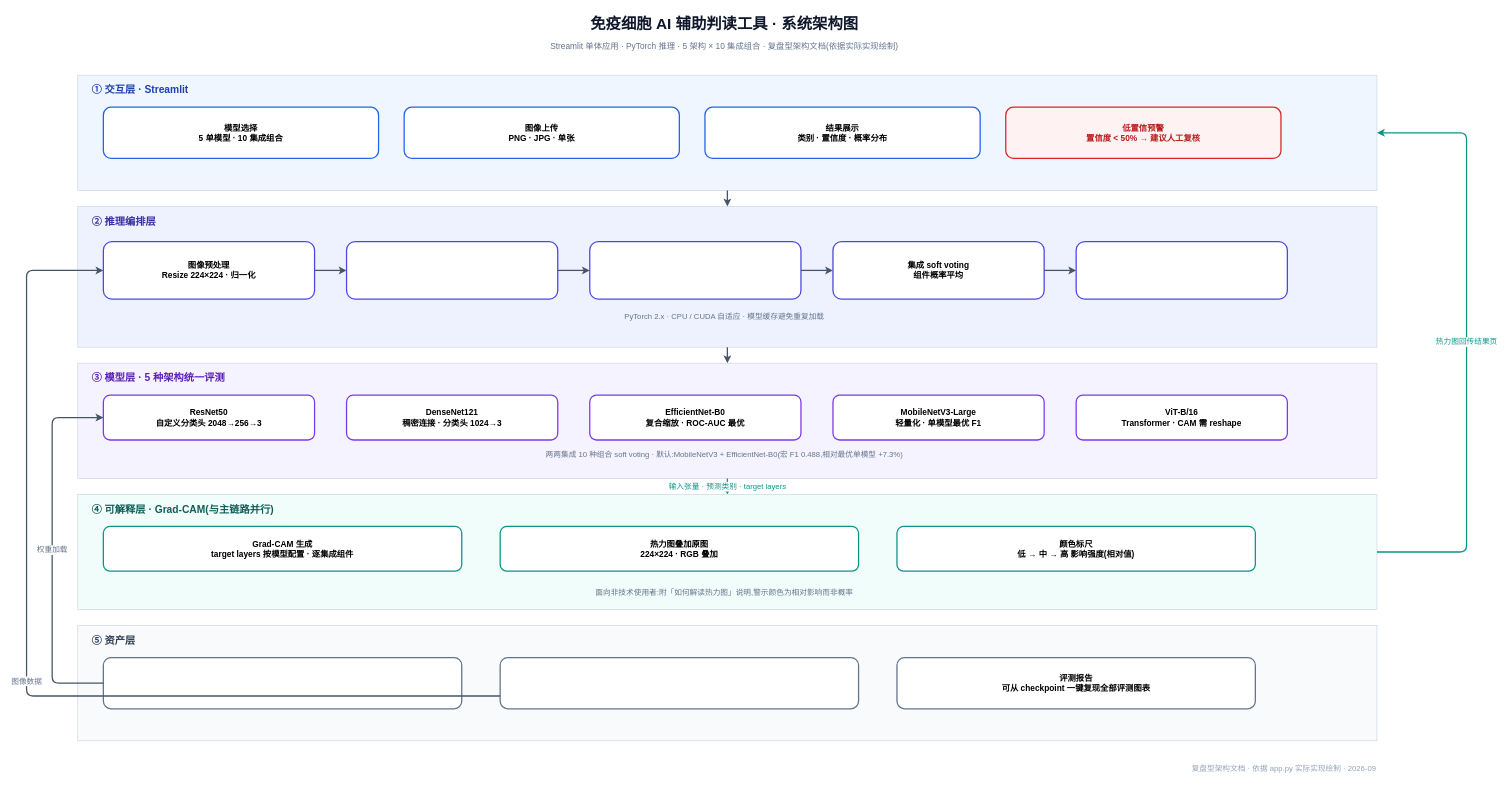
The diagram is 1508 pixels wide and 787 high, and some of its shapes have lost their labels. Each missing label, with the centre of its shape:
Checkpoint 加载 load_state_dict · 缓存: (x=452, y=270)
Data/ 22,005 张 H&E 图像(4 类 → 3 类口径): (x=679, y=683)
model_checkpoints/ 5 × .pt 权重(约 480 MB): (x=282, y=683)
前向推理 logits → softmax: (x=695, y=270)
置信度判断 < 50% 触发预警: (x=1181, y=270)
